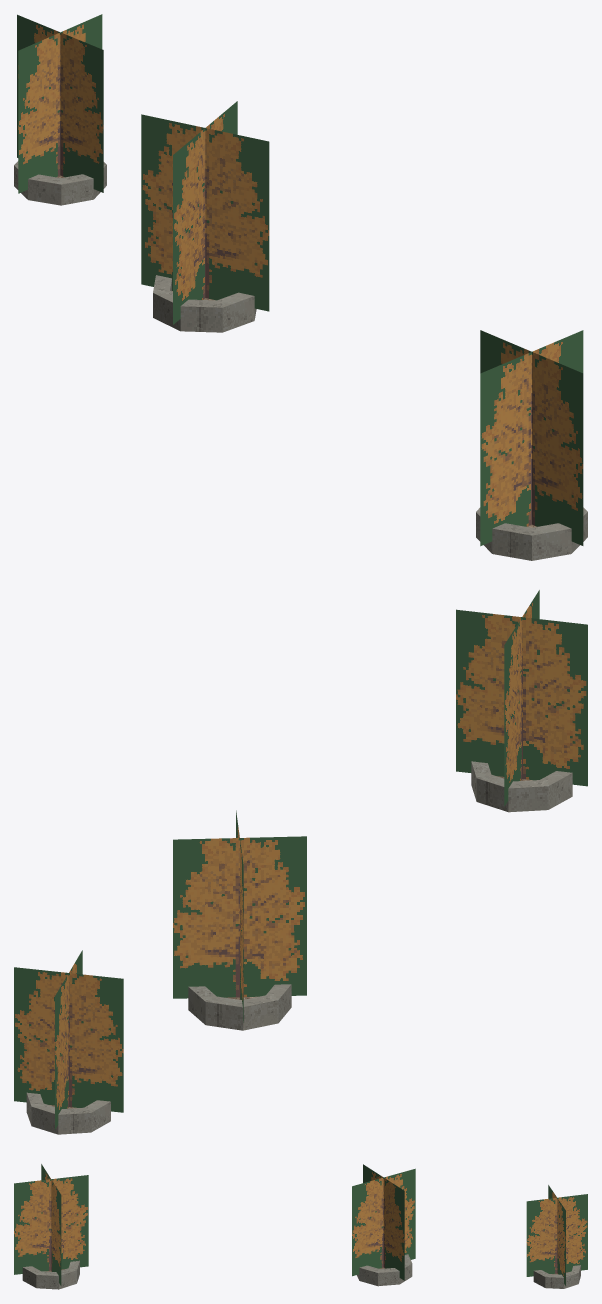
Rendered from procgen-procpain-tree-park-large-xm2z0.obj.
3 renders of one model, top to bottom at view 1: azimuth 30°, elevation 25°; view 2: azimuth 150°, elevation 25°; view 3: azimuth 270°, elevation 25°, orthographic. The views are drawn at different scales.
Size of the model in its own units: 5.44 by 7.68 by 40.67.
